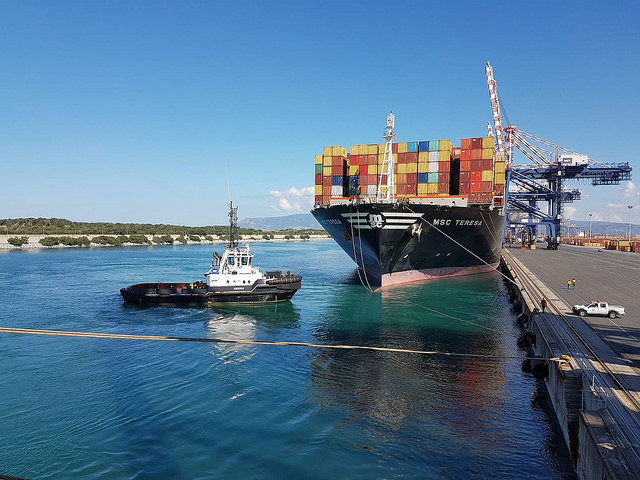container_ship: (313, 113, 508, 285)
tug_boat: (119, 214, 300, 306)
